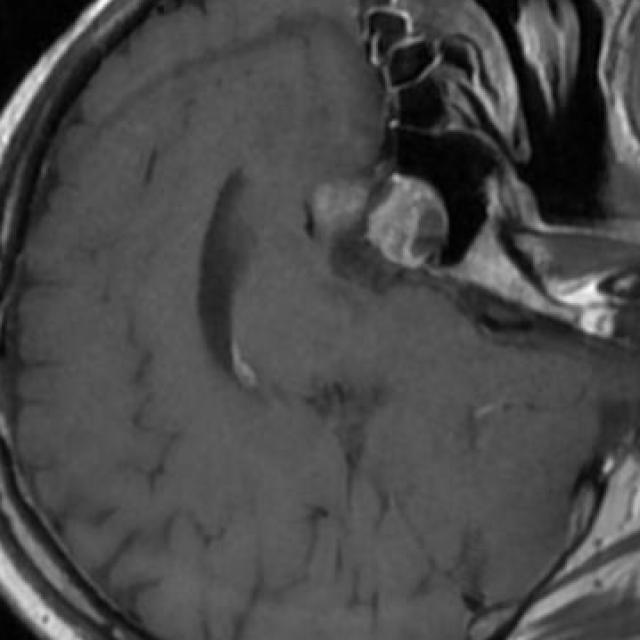pituitary: (307, 173, 449, 266)
